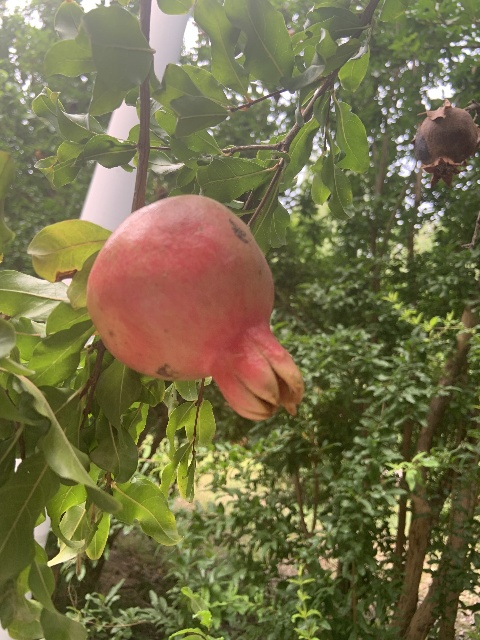ripe: (85, 194, 304, 421)
